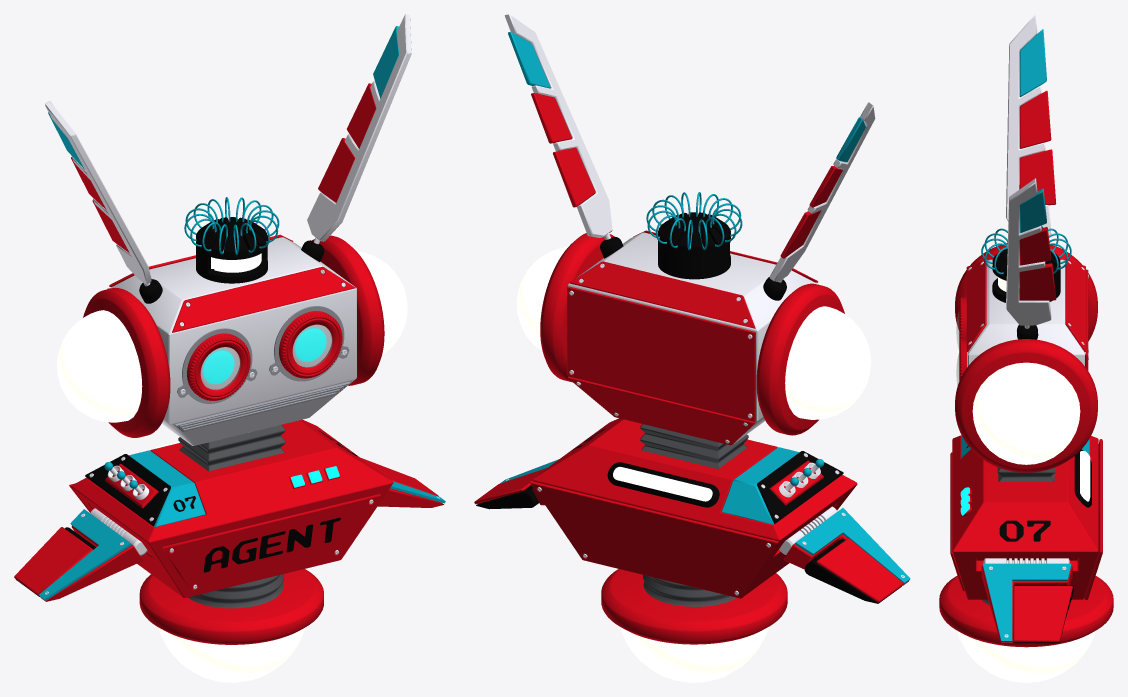
Rendered from bee_bot7_red_3.glb.
3 renders of one model, left to right at view 1: azimuth 30°, elevation 25°; view 2: azimuth 150°, elevation 25°; view 3: azimuth 270°, elevation 25°, orthographic. The views are drawn at different scales.
Parts seen in each view (by area): view 1: Cube.058; view 2: Cube.058; view 3: Cube.058.
Part boxes in pixels (x1,y1,x2,y2): Cube.058: [14, 14, 445, 682]; Cube.058: [474, 14, 910, 682]; Cube.058: [939, 14, 1113, 682].
Size of the model in its own units: 0.6985 by 1.02 by 0.278.
